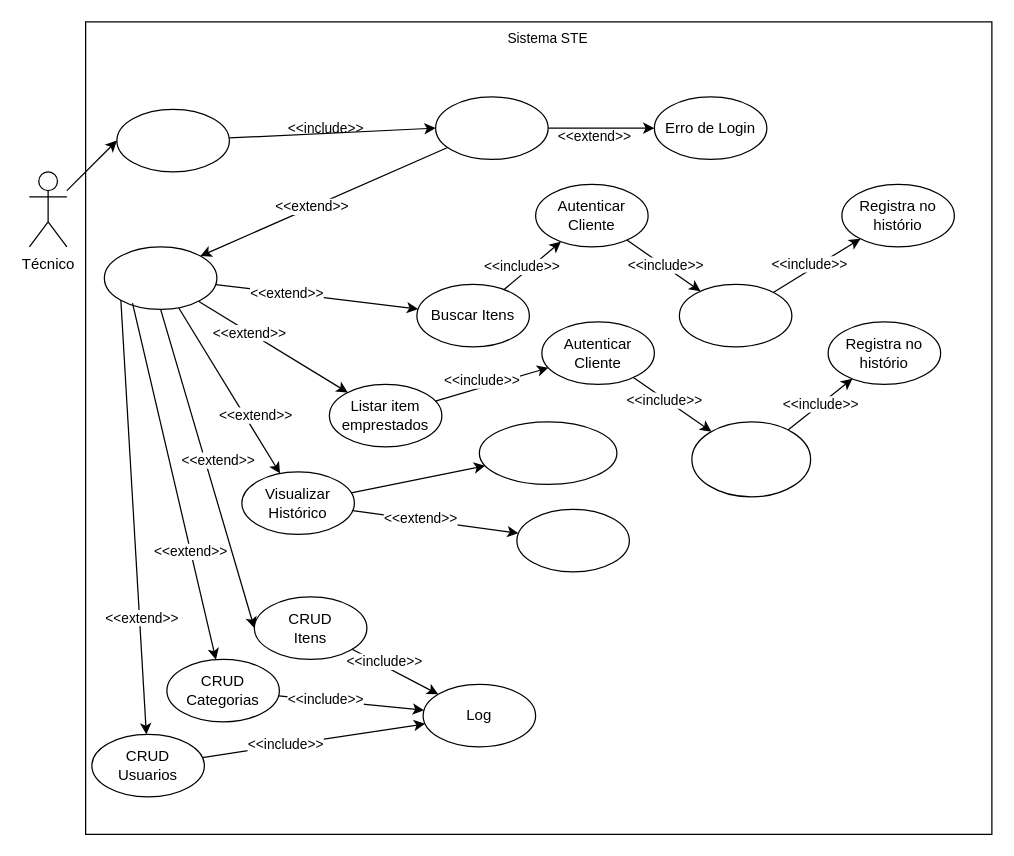
This 1014x856 diagram has some shape labels left out. Each missing label, with the centre of its shape:
Autenticado: point 160,277
Devolver Item selecionado: point 751,459
Filtrar registros (data e itens): point 547,452
Gera relatório Histórico: point 572,540
Logar: point 172,140
Registra Empréstimo: point 735,315
Verifica Senha: point 491,127
